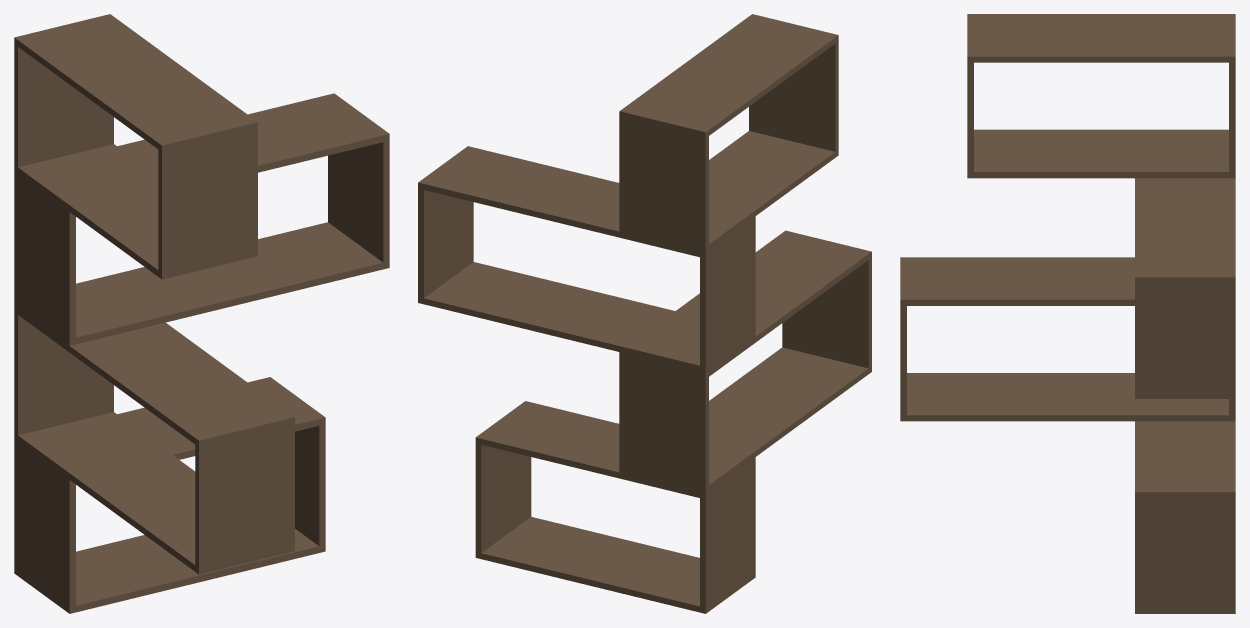
Rendered from shelf4.glb.
3 renders of one model, left to right at view 1: azimuth 30°, elevation 25°; view 2: azimuth 150°, elevation 25°; view 3: azimuth 270°, elevation 25°, orthographic. The views are drawn at different scales.
Bounding box in the file's own units: 0.625 × 1 × 0.625.
1 material, 1 textured.
